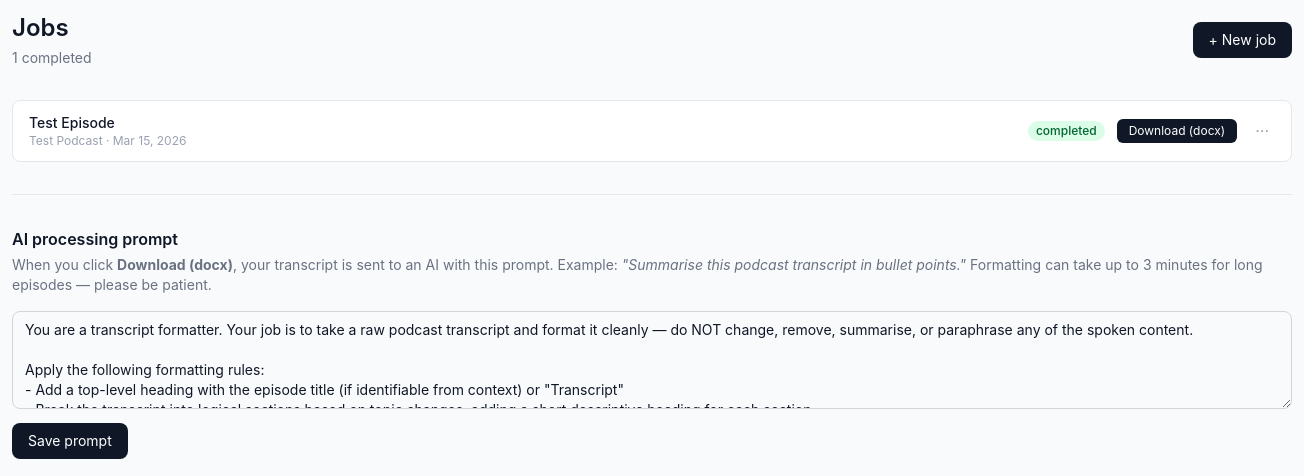
Test: DashboardPage › disables the Download (docx) button when the prompt textarea is empty
The width and height of the screenshot is (1304, 476).
Check: the button "Download (docx)" is shown, box x1=1117 y1=119 x2=1237 y2=143
Clear the text box at (652, 360), box x1=12 y1=311 x2=1292 y2=409
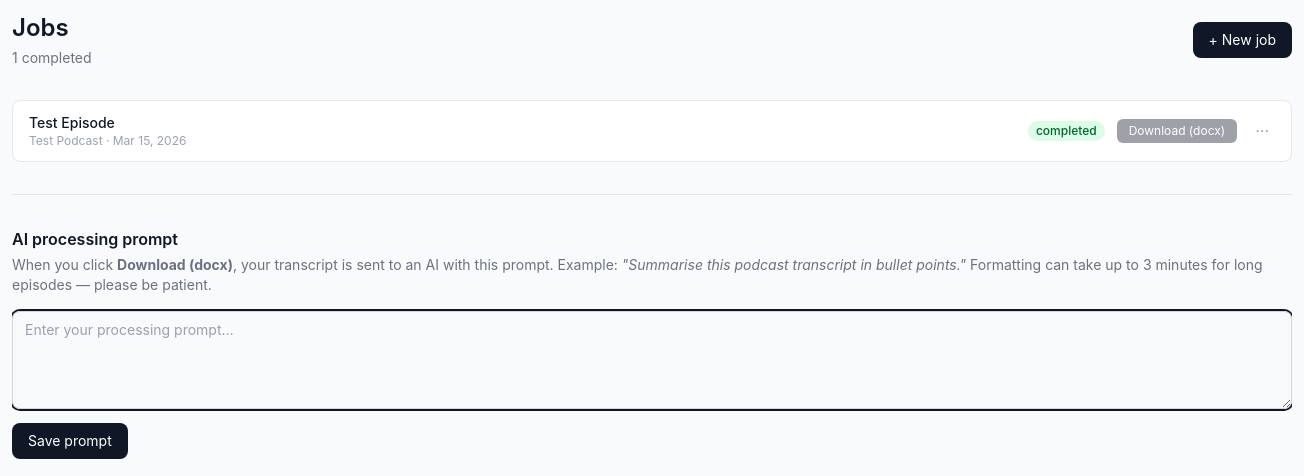
Check: the button "Download (docx)" is disabled, box x1=1117 y1=119 x2=1237 y2=143
